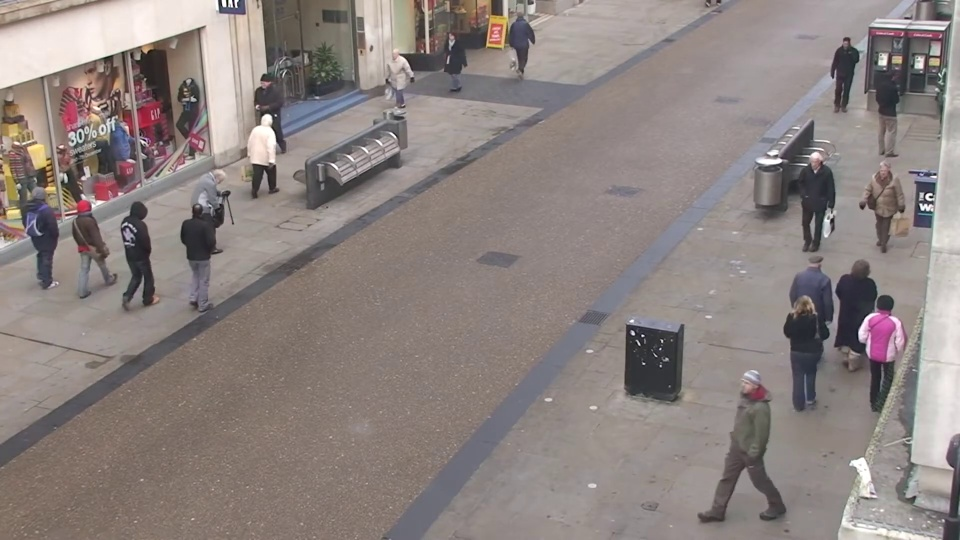pedestrian: (702, 363, 758, 524), (855, 281, 912, 422), (778, 285, 830, 425), (831, 251, 883, 384), (792, 244, 841, 374), (25, 178, 78, 288), (72, 191, 123, 304), (123, 192, 171, 305), (184, 195, 229, 309), (856, 161, 901, 270), (202, 163, 244, 269), (789, 153, 829, 260), (867, 66, 906, 152), (258, 107, 293, 199), (246, 73, 278, 155), (825, 37, 858, 114), (381, 46, 408, 121), (437, 30, 463, 102), (512, 7, 535, 72)
